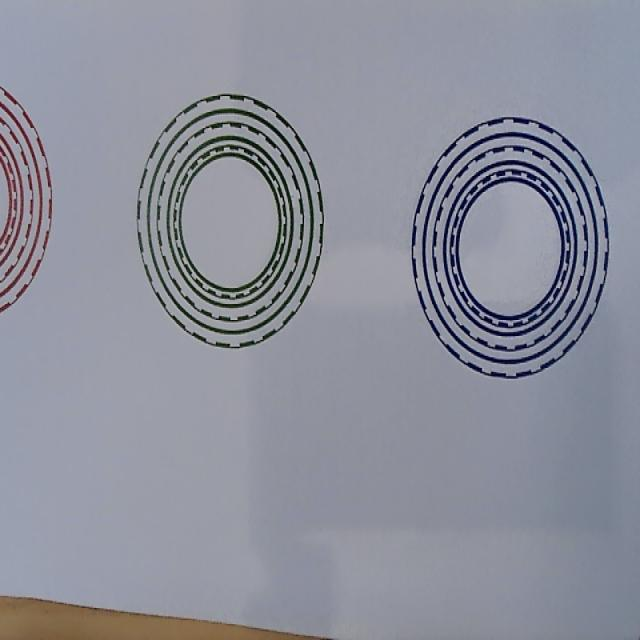b: (411, 117, 609, 379)
g: (136, 93, 323, 349)
